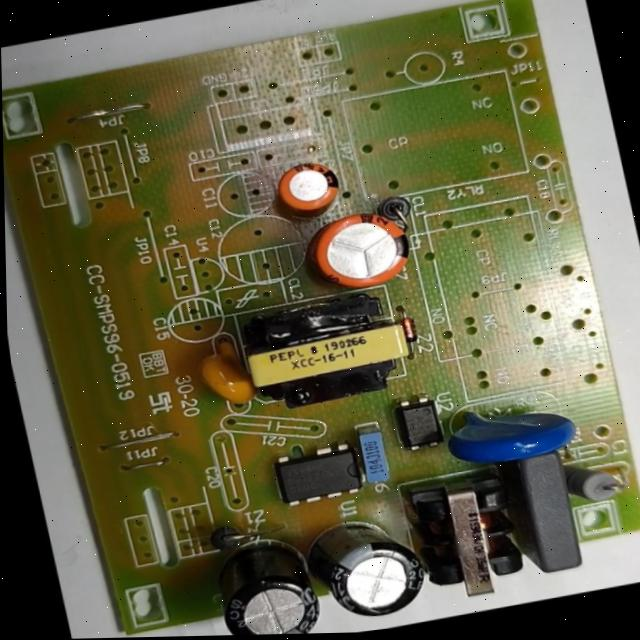Cap1: (301, 201, 420, 296)
Cap2: (268, 150, 347, 222)
Cap3: (300, 504, 435, 628)
Cap4: (206, 527, 327, 636)
MOSFET: (271, 440, 368, 510)
Mov: (439, 389, 584, 473)
Resistor: (560, 452, 628, 510)
Transformer: (233, 287, 425, 419), (411, 471, 539, 605)
